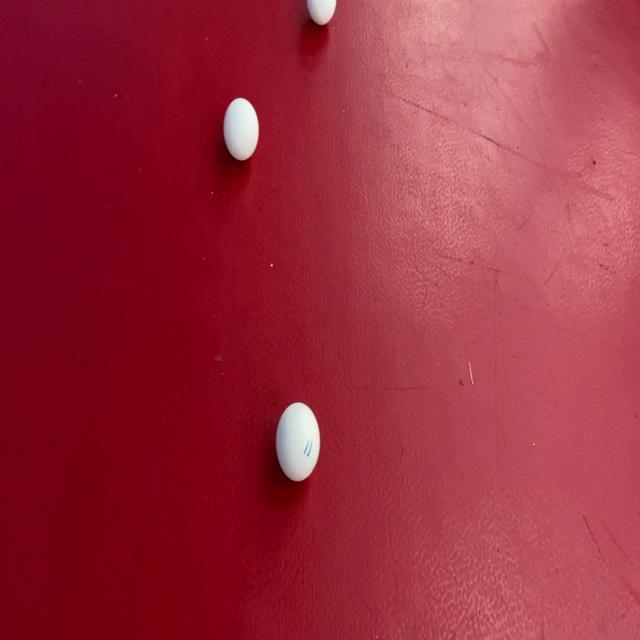ping-pong-ball: (273, 397, 323, 487), (218, 89, 262, 166), (301, 0, 345, 30)
